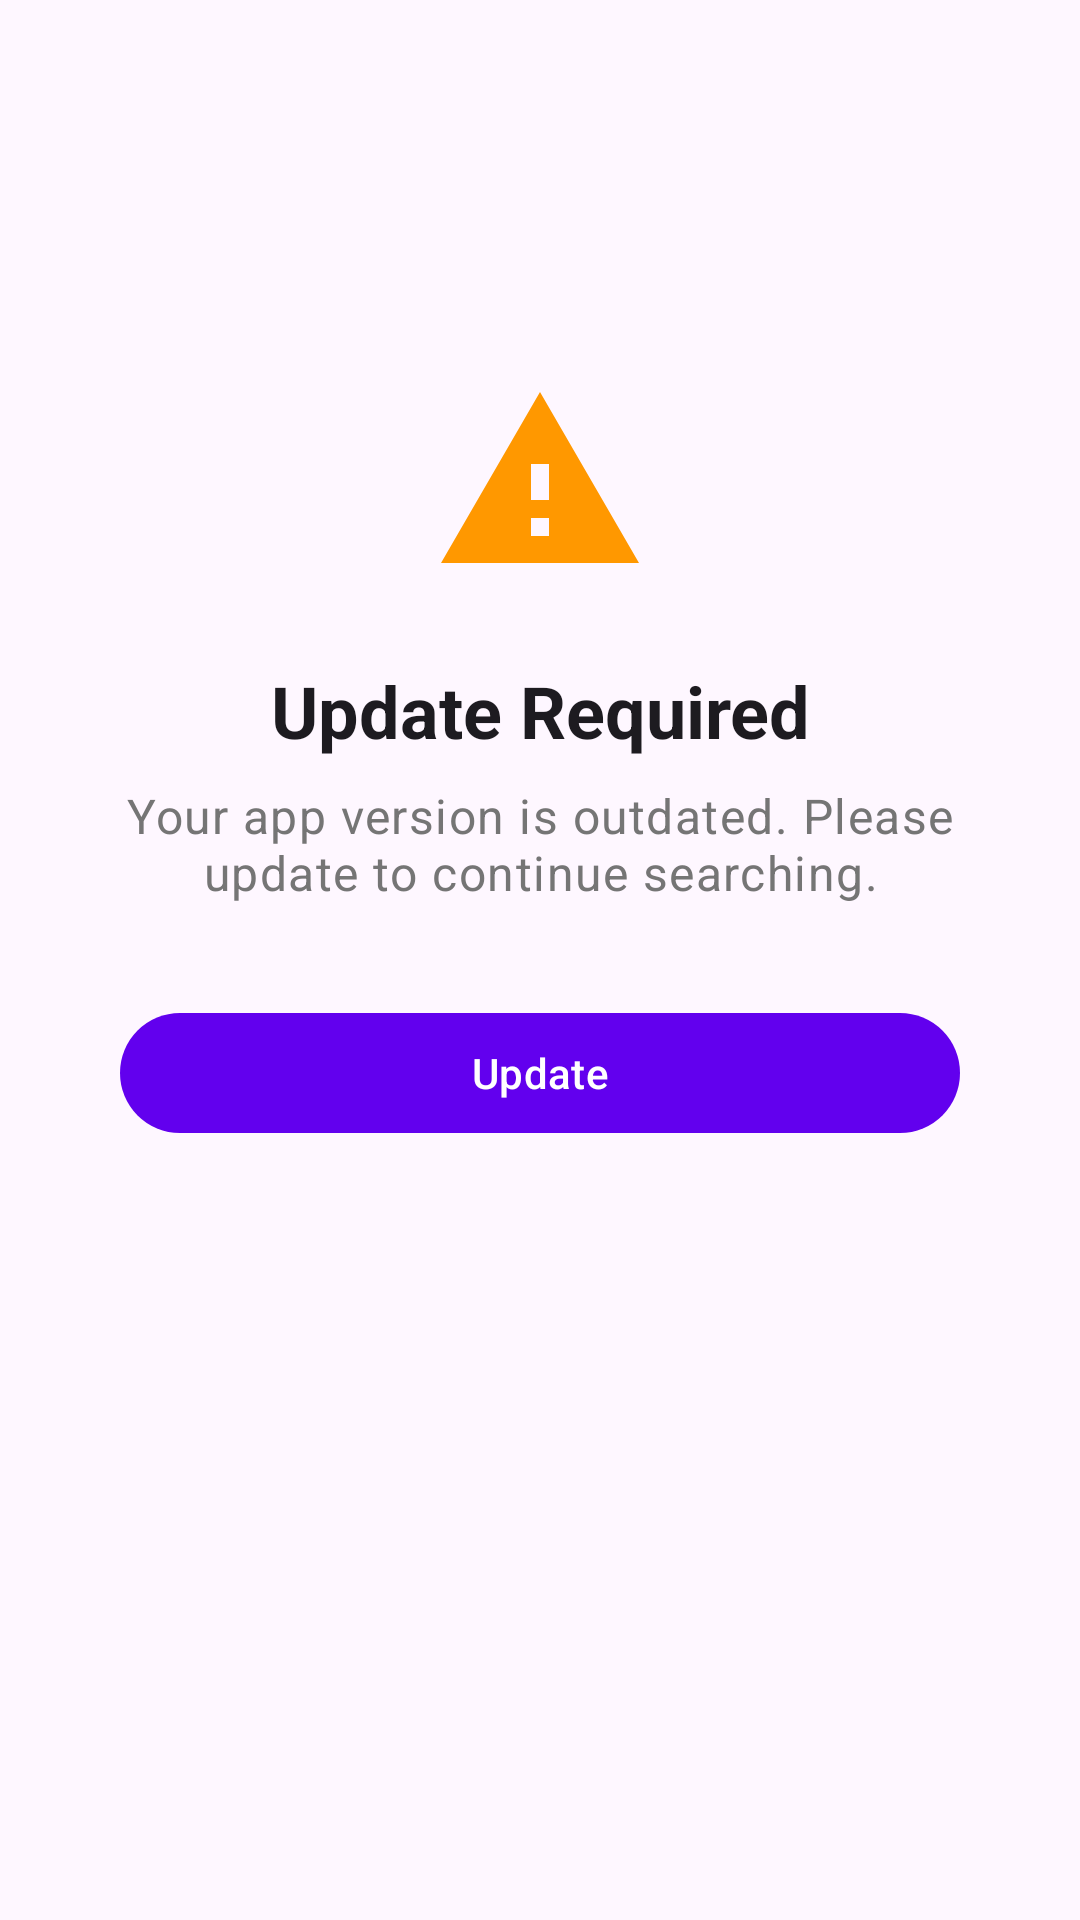

Icon click points for this 1080 × 1920 phone screenshot, format (x,y):
Warning icon: (540,477)
